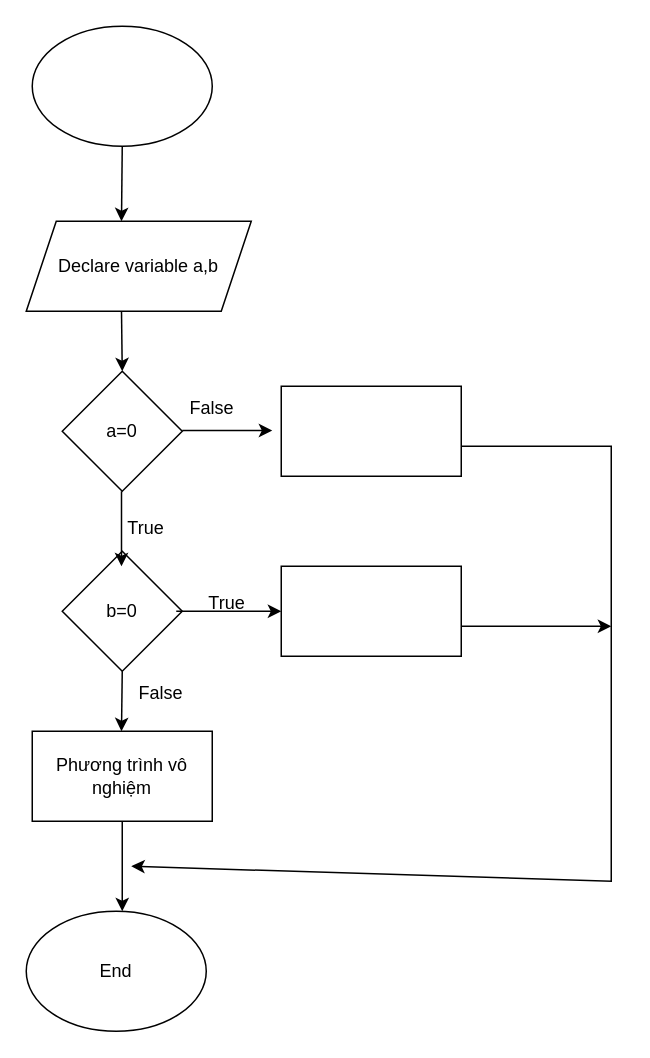
The diagram is 650 pixels wide and 1058 high, and some of its shapes have lost their labels. The shapes that lost their labels are listed below. From the top down, each one's centre as x and y in pixels, then its label:
(121,85): Start
(370,430): Phương trình có nghiệm là x=-b/a
(370,610): Phương trình có vô số nghiệm
